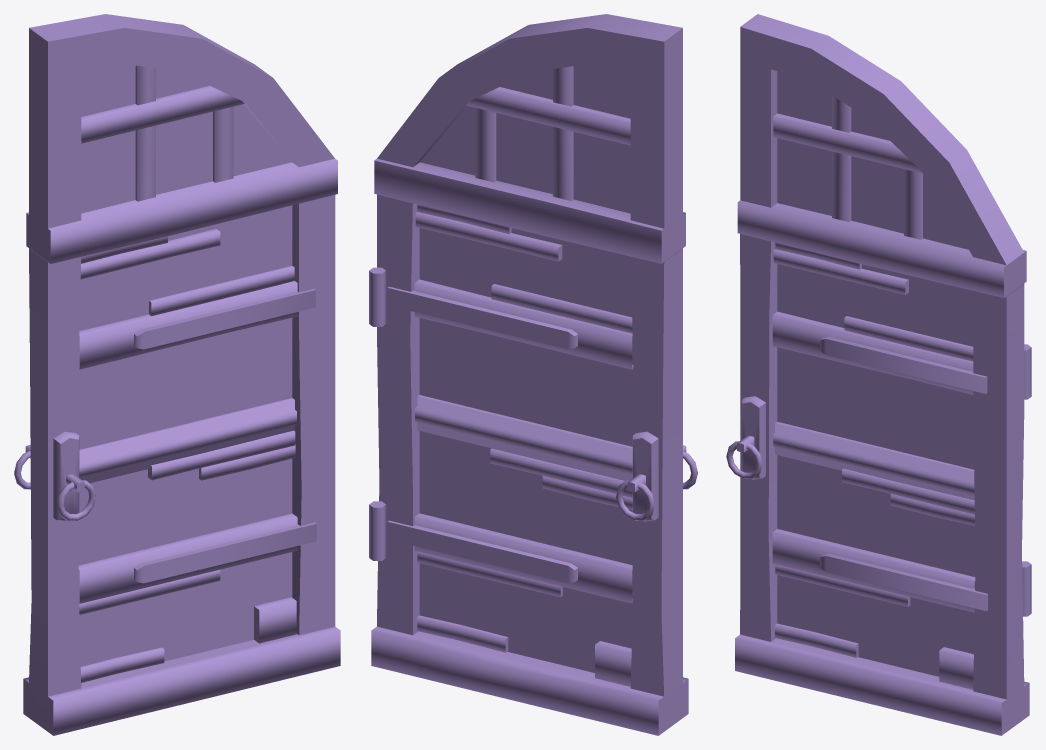
The model's file is gate_a_wing.fbx.
3 renders of one model, left to right at view 1: azimuth 30°, elevation 25°; view 2: azimuth 150°, elevation 25°; view 3: azimuth 330°, elevation 25°, orthographic. The views are drawn at different scales.
Parts seen in each view (by area): view 1: Plane.016; view 2: Plane.016; view 3: Plane.016.
Part boxes in pixels (x1,y1,x2,y2): Plane.016: (14,14,340,735); Plane.016: (369,14,697,735); Plane.016: (726,14,1031,735).
Size of the model in its own units: 1.79 by 4.05 by 0.5475.
